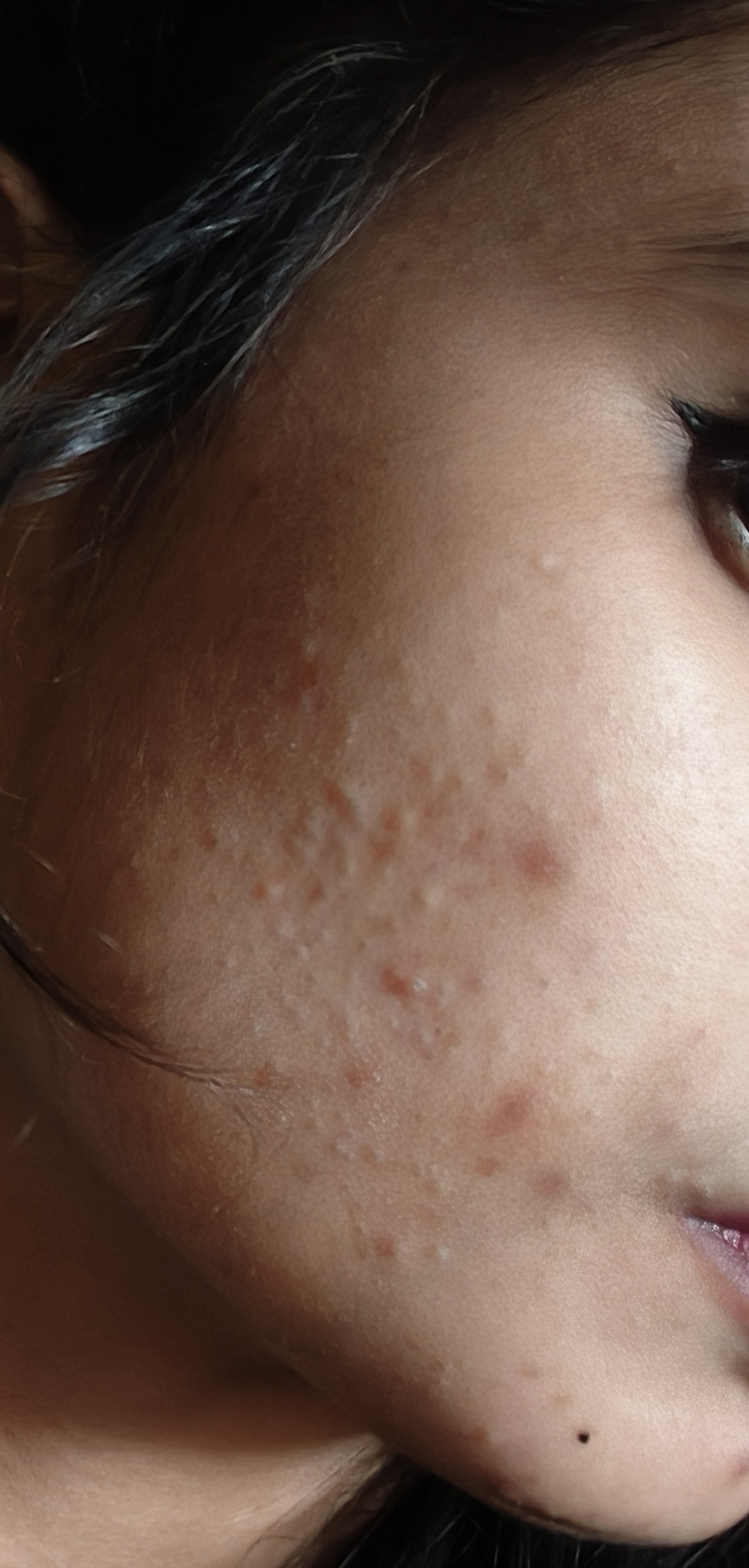closed_comedone: (305, 747, 419, 881), (325, 1129, 481, 1202), (225, 915, 315, 1029), (271, 602, 341, 710), (351, 1220, 481, 1274)
papule: (488, 814, 600, 897), (367, 954, 452, 1013)
